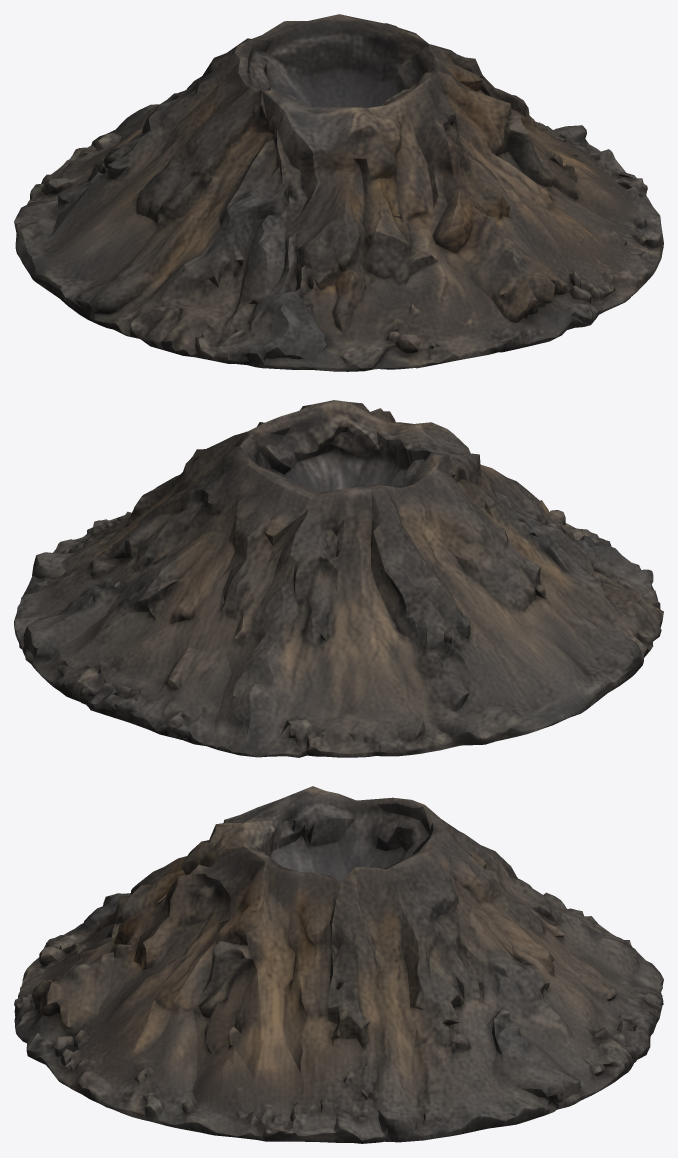
3 views of the same model, one above another, from view 1: azimuth 30°, elevation 25°; view 2: azimuth 150°, elevation 25°; view 3: azimuth 270°, elevation 25° (orthographic).
Parts seen in each view (by area): view 1: world; view 2: world; view 3: world.
Boxes of the visible parts, x1,y1,x2,y2 form: world: (14, 14, 663, 371); world: (14, 400, 663, 757); world: (14, 786, 663, 1143).
Bounding box in the file's own units: 0.3 × 0.0928 × 0.3024.
1 material, 1 textured.
